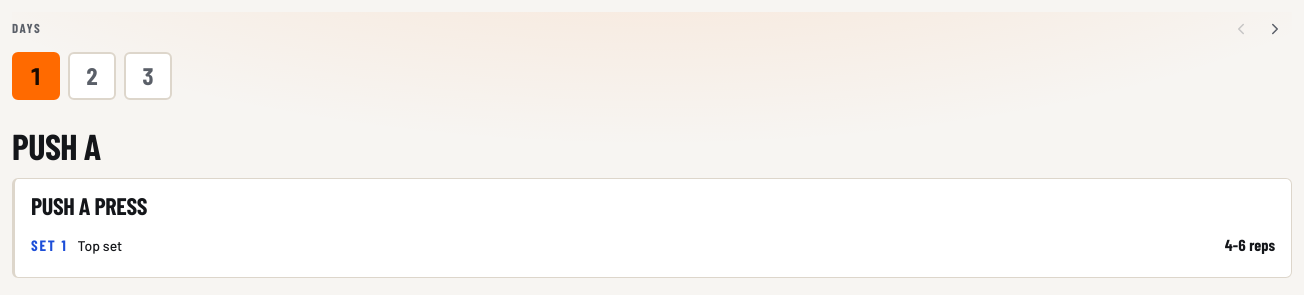
it: RoutineDays › swaps which day is on screen
The image size is (1304, 295).
Click the tab "3": (148, 76) [124, 52, 172, 100]
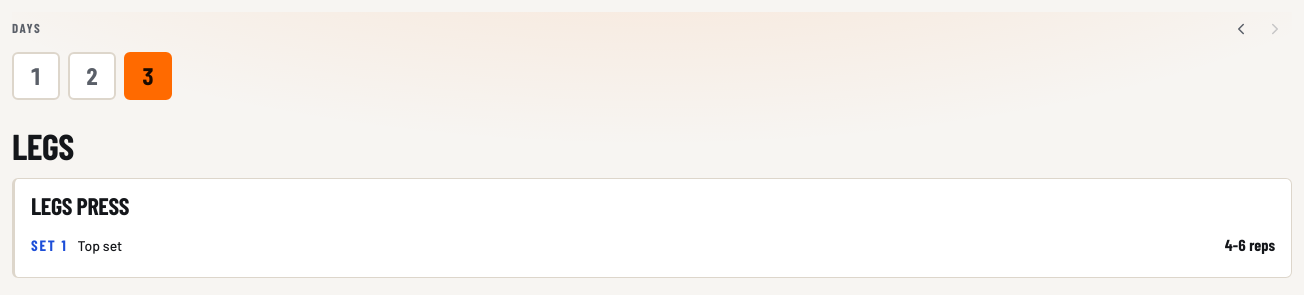
Expected: the panel "Legs" is shown, [12, 130, 1292, 278]
Expected: the heading "Push A" is gone
